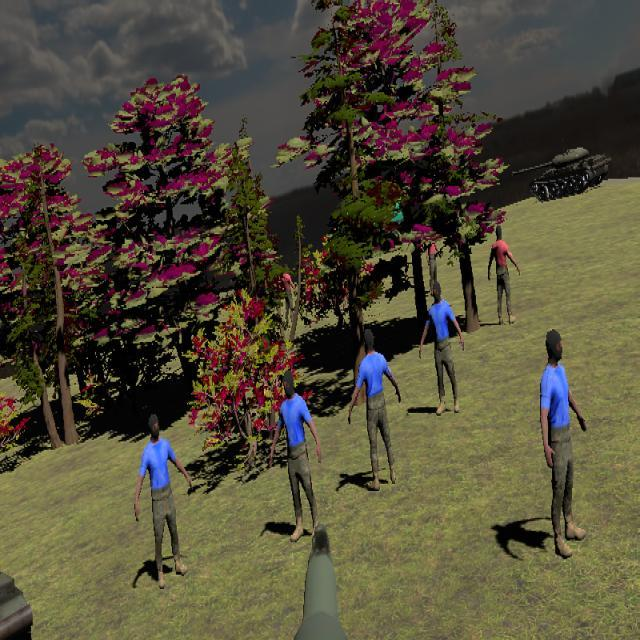Human: (540, 328, 588, 556), (134, 412, 193, 590), (271, 367, 322, 543), (348, 329, 401, 490), (419, 280, 464, 415), (488, 226, 520, 325)
Tank: (510, 145, 611, 203), (0, 517, 33, 640)
